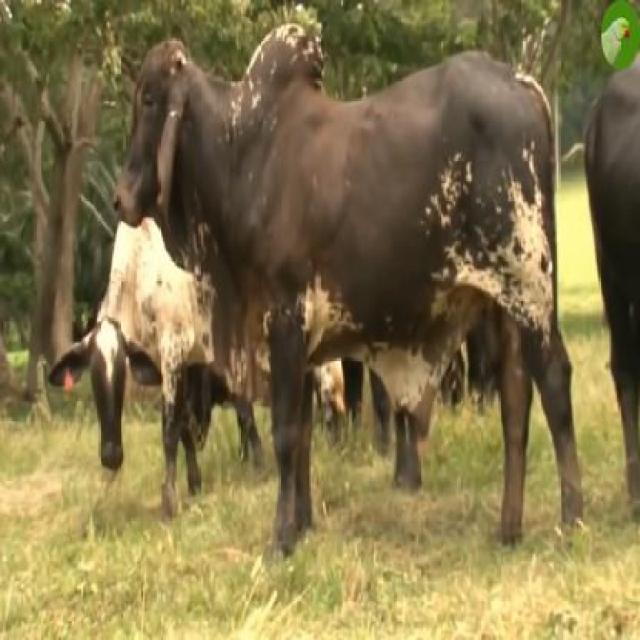Cow: (110, 23, 584, 551)
